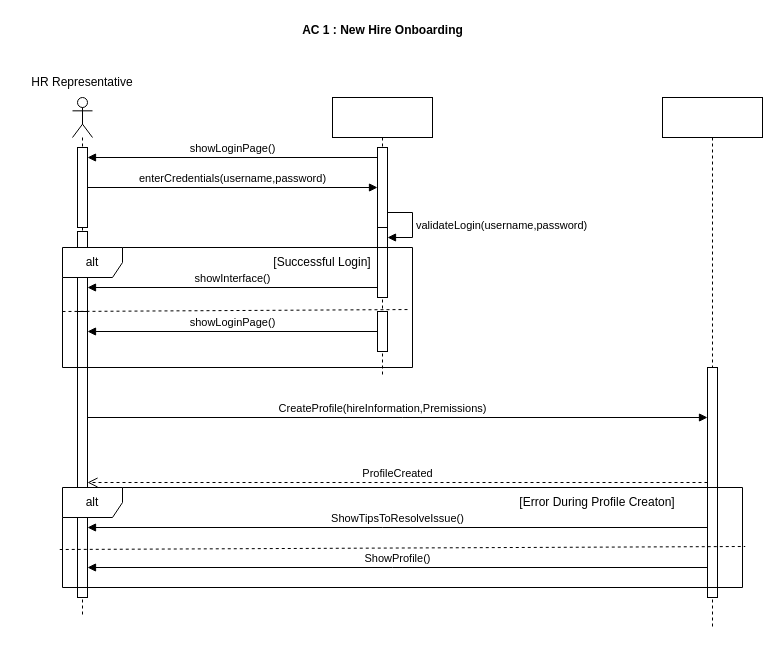
This 780x645 diagram has some shape labels left out. The shapes that lost their labels are listed below. From the top down, each one's box as (x1, y1, x2, y2) in pixels, then its label:
(332, 96, 432, 378): Authenticaor
(662, 96, 762, 628): ProfileManager
